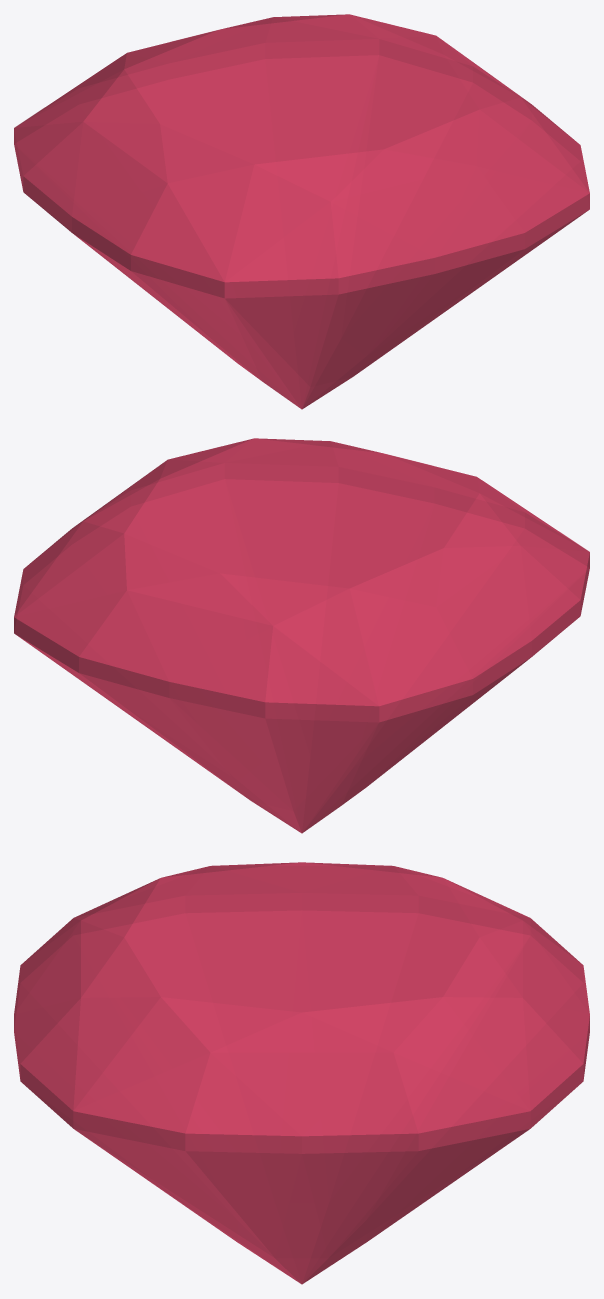
Rendered from GemCushionRuby.obj.
3 views of the same model, one above another, from view 1: azimuth 30°, elevation 25°; view 2: azimuth 150°, elevation 25°; view 3: azimuth 270°, elevation 25° (orthographic). The views are drawn at different scales.
Visible parts, largest first — view 1: Ruby; view 2: Ruby; view 3: Ruby.
Boxes of the visible parts, x1,y1,x2,y2 form: Ruby: (14, 14, 589, 409); Ruby: (14, 438, 589, 833); Ruby: (14, 862, 589, 1284).
Size of the model in its own units: 0.00579 by 0.00385 by 0.00579.
